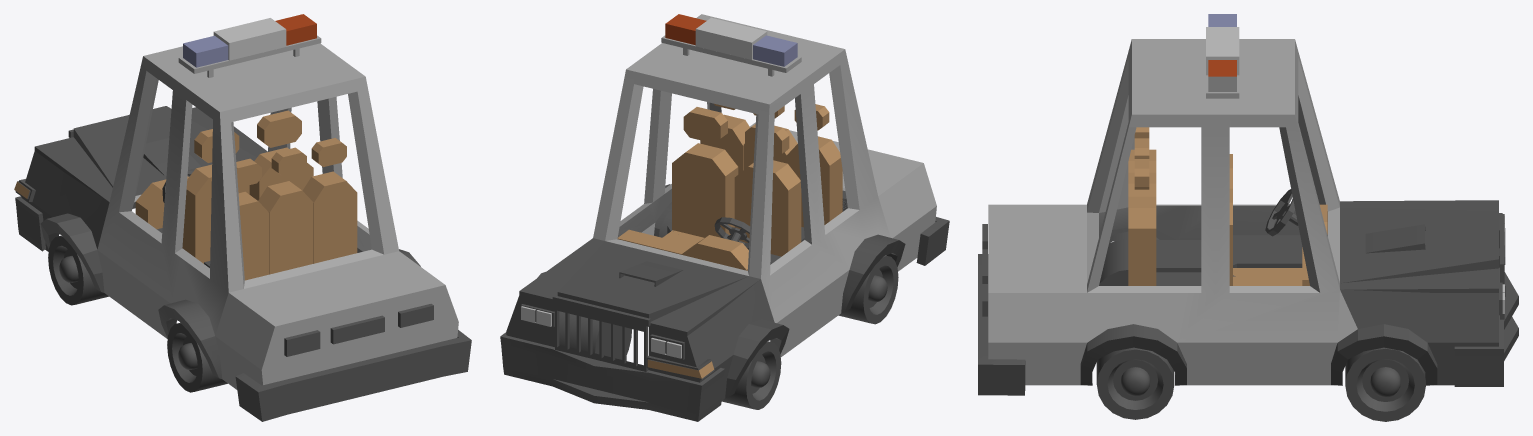
The model's file is Police_Car_Mesh.fbx.
3 views of the same model, side by side, from view 1: azimuth 30°, elevation 25°; view 2: azimuth 150°, elevation 25°; view 3: azimuth 270°, elevation 25° (orthographic). The views are drawn at different scales.
Visible parts, largest first — view 1: Police_Car_Mesh; view 2: Police_Car_Mesh; view 3: Police_Car_Mesh.
Boxes of the visible parts, x1,y1,x2,y2 form: Police_Car_Mesh: (14, 14, 471, 421); Police_Car_Mesh: (500, 14, 949, 421); Police_Car_Mesh: (978, 14, 1518, 421).
Bounding box in the file's own units: 3.92 × 4.87 × 7.38.
